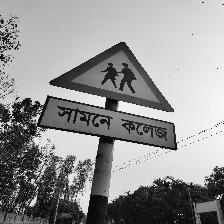College-in-front: (23, 30, 191, 183)
